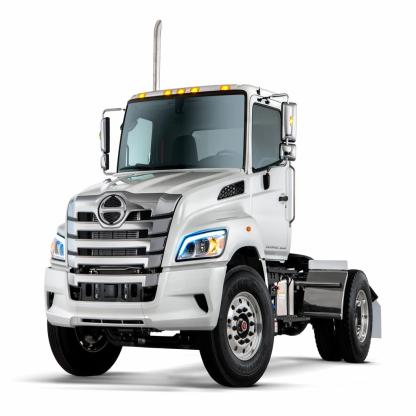dump_truck: (22, 59, 384, 392)
